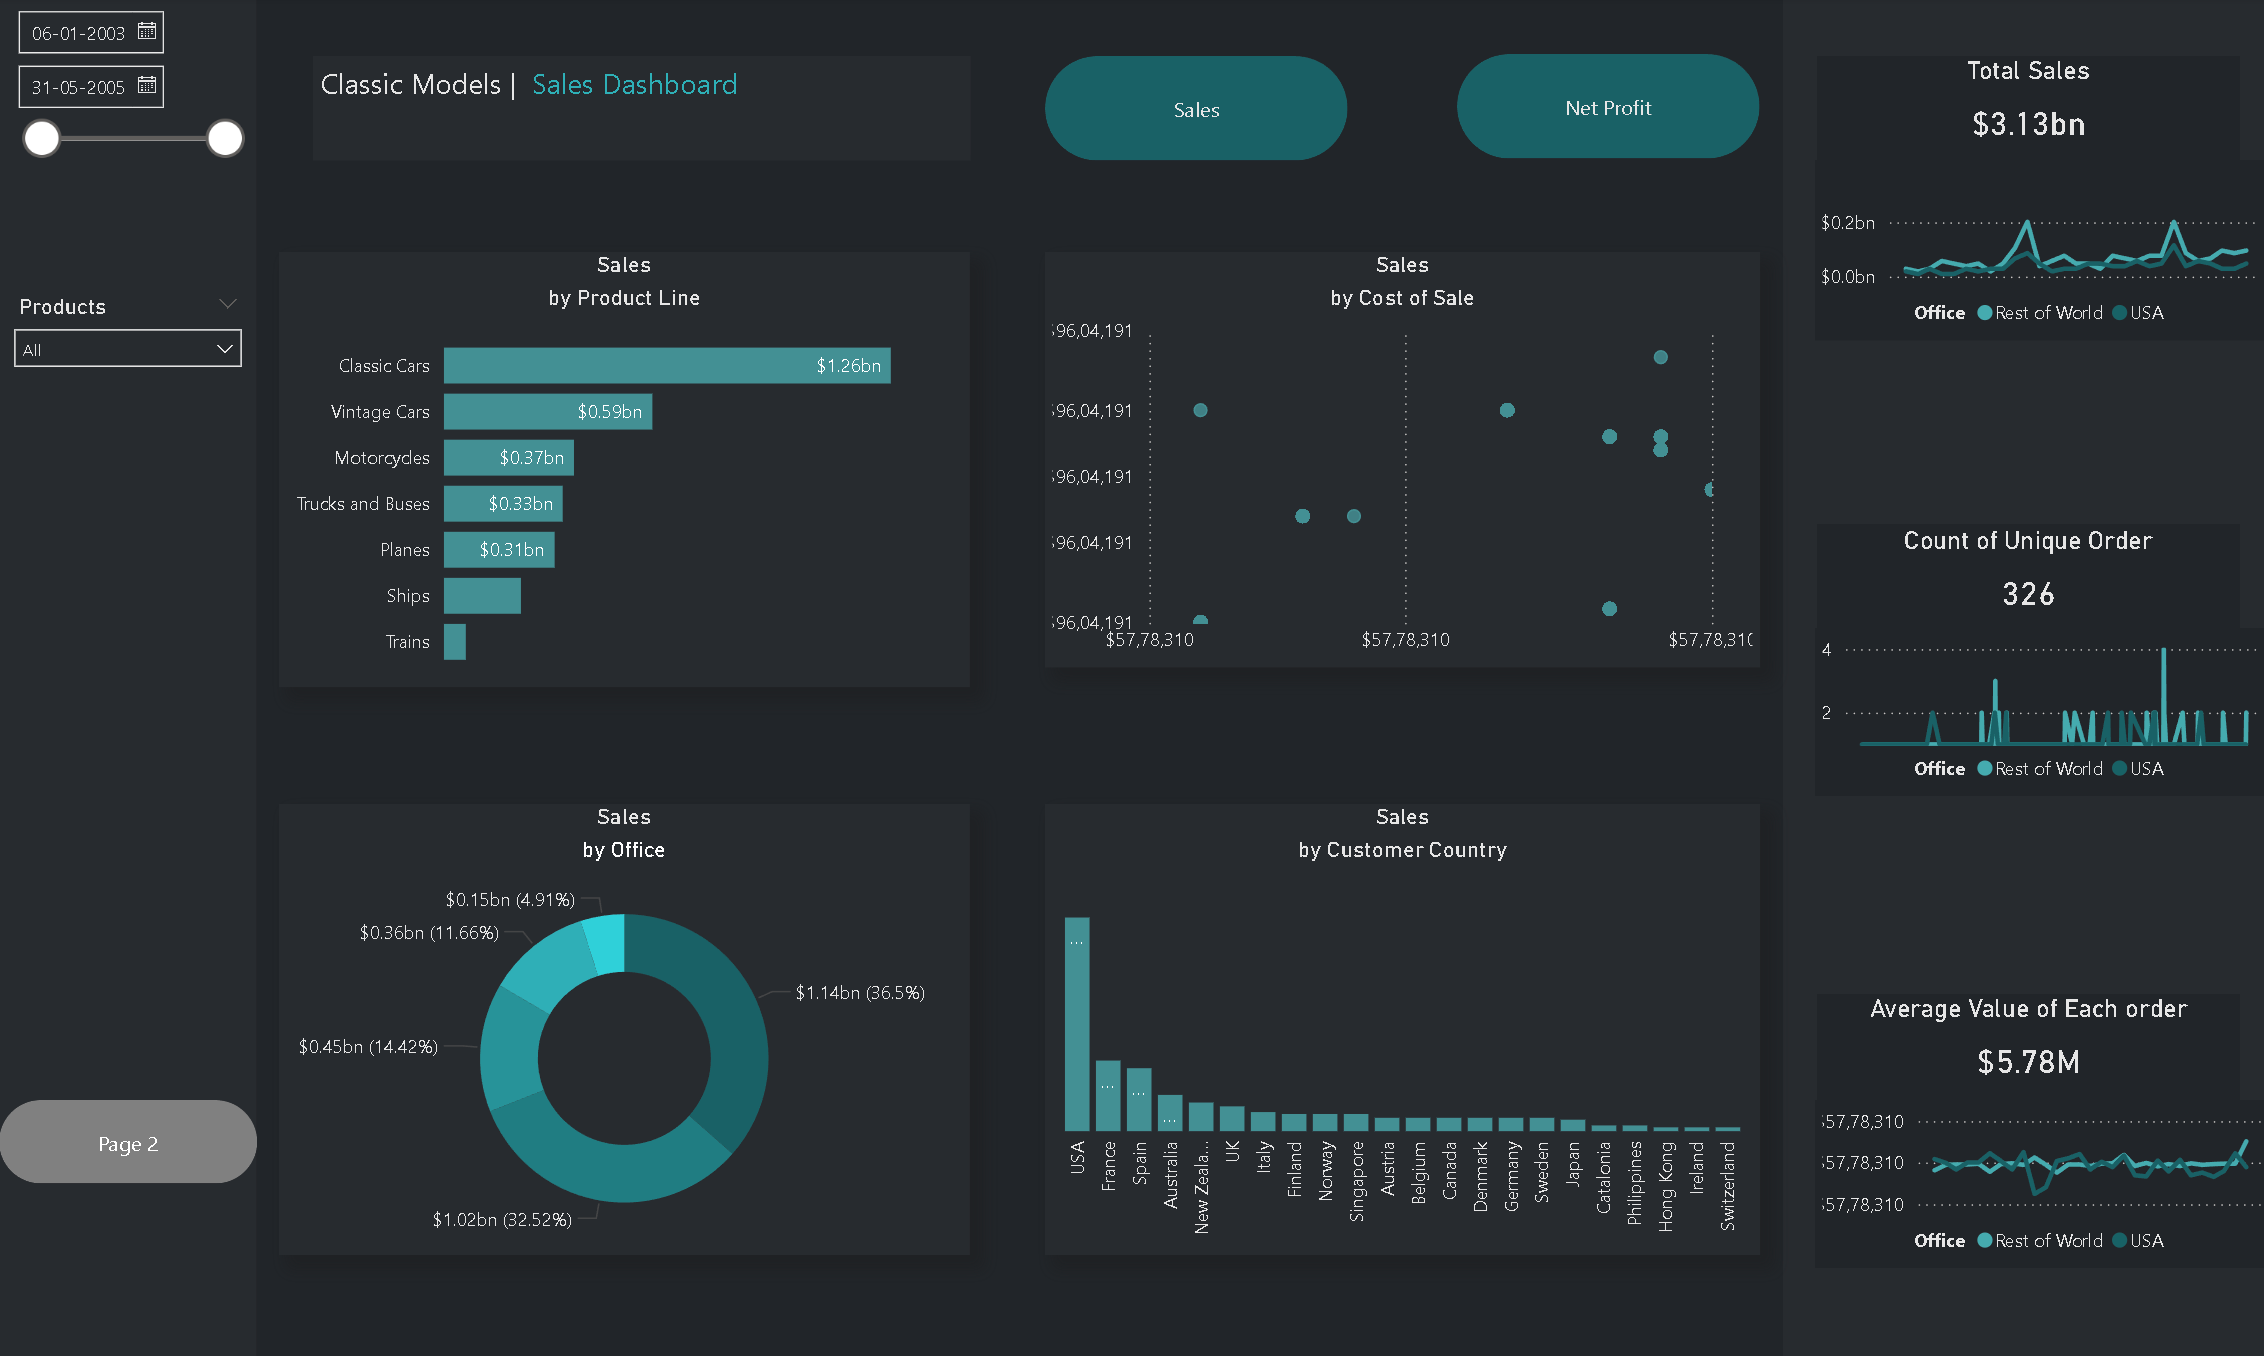

Layout of this report page (visuals, bound fields, positions):
{"tool":"powerbi","page":{"name":"Sales Overview Page 1","canvas":[1500,900],"ordinal":1},"visuals":[{"type":"shape","box":[0,0,170,899.6],"z":0},{"type":"shape","box":[1179.1,0,320.9,899.6],"z":1000},{"type":"shape","box":[1200.8,39.4,279.5,179.1],"z":2000},{"type":"shape","box":[1200.8,659.4,279.5,179.1],"z":3000},{"type":"shape","box":[1200.8,349.4,279.5,179.1],"z":4000},{"type":"card","title":"Total Sales","fields":{"Values":["Sum(classicmodelss sales_data_for_power_bi.sales_value)"]},"box":[1200.8,39.4,279.5,68.9],"z":5000},{"type":"card","title":"Count of Unique Order","fields":{"Values":["Count(classicmodelss sales_data_for_power_bi.orderNumber)"]},"box":[1200.8,350.4,279.5,68.9],"z":6000},{"type":"card","title":"Average Value of Each order","fields":{"Values":["classicmodelss sales_data_for_power_bi.Average Sales Value per Order"]},"box":[1200.8,659.4,279.5,68.9],"z":7000},{"type":"lineChart","fields":{"Y":["Sum(classicmodelss sales_data_for_power_bi.sales_value)"],"Category":["classicmodelss sales_data_for_power_bi.orderDate.Variation.Date Hierarchy.Year","classicmodelss sales_data_for_power_bi.orderDate.Variation.Date Hierarchy.Quarter","classicmodelss sales_data_for_power_bi.orderDate.Variation.Date Hierarchy.Month"],"Series":["classicmodelss sales_data_for_power_bi.Office Country"]},"box":[1200,107.8,300,109.8],"z":8000},{"type":"lineChart","fields":{"Y":["Sum(classicmodelss sales_data_for_power_bi.sales_value)"],"Category":["classicmodelss sales_data_for_power_bi.orderDate.Variation.Date Hierarchy.Year","classicmodelss sales_data_for_power_bi.orderDate.Variation.Date Hierarchy.Quarter","classicmodelss sales_data_for_power_bi.orderDate.Variation.Date Hierarchy.Month"],"Series":["classicmodelss sales_data_for_power_bi.Office Country"]},"box":[1200,117.8,300,109.8],"z":9000},{"type":"lineChart","fields":{"Series":["classicmodelss sales_data_for_power_bi.Office Country"],"Category":["classicmodelss sales_data_for_power_bi.orderDate.Variation.Date Hierarchy.Year","classicmodelss sales_data_for_power_bi.orderDate.Variation.Date Hierarchy.Quarter","classicmodelss sales_data_for_power_bi.orderDate.Variation.Date Hierarchy.Month","classicmodelss sales_data_for_power_bi.orderDate.Variation.Date Hierarchy.Day"],"Y":["Count(classicmodelss sales_data_for_power_bi.orderNumber)"]},"box":[1200,418.2,300,110.9],"z":10000},{"type":"lineChart","fields":{"Category":["classicmodelss sales_data_for_power_bi.orderDate.Variation.Date Hierarchy.Year","classicmodelss sales_data_for_power_bi.orderDate.Variation.Date Hierarchy.Quarter","classicmodelss sales_data_for_power_bi.orderDate.Variation.Date Hierarchy.Month"],"Series":["classicmodelss sales_data_for_power_bi.Office Country"],"Y":["classicmodelss sales_data_for_power_bi.Average Sales Value per Order"]},"box":[1200,729.1,300,110.9],"z":11000},{"type":"actionButton","box":[690.9,40,200,69.1],"z":12000},{"type":"actionButton","box":[963.6,38.2,200,69.1],"z":13000},{"type":"clusteredBarChart","fields":{"Category":["classicmodelss sales_data_for_power_bi.productLine"],"Y":["Table.Selected Metric"]},"box":[185.5,169.1,456.4,287.3],"z":14000},{"type":"donutChart","fields":{"Y":["Table.Selected Metric"],"Category":["classicmodelss sales_data_for_power_bi.office_country"]},"box":[185.5,534.5,456.4,298.2],"z":16000},{"type":"columnChart","fields":{"Y":["Table.Selected Metric"],"Category":["classicmodelss sales_data_for_power_bi.customer_country"]},"box":[690.9,534.5,472.7,298.2],"z":17000},{"type":"scatterChart","fields":{"Y":["Table.Selected Metric"],"X":["Sum(classicmodelss sales_data_for_power_bi.cost_of_sales)"],"Category":["classicmodelss sales_data_for_power_bi.orderNumber"]},"box":[690.9,169.1,472.7,274.5],"z":18000},{"type":"textbox","box":[207.3,40,434.5,69.1],"z":19000},{"type":"actionButton","box":[0,729.3,170.7,55.2],"z":20000},{"type":"slicer","fields":{"Values":["classicmodelss sales_data_for_power_bi.orderDate"]},"box":[0,0,170.7,129.3],"z":21000},{"type":"slicer","fields":{"Values":["classicmodelss sales_data_for_power_bi.productName"]},"box":[0,191.8,170.6,157.6],"z":22000}]}

Visuals, with their boxes in screenshot pixels (x1, y1, x2, y2), scaled from the page's 1500x900 canvas onto the 2264x1356 screenshot:
shape: [0,0,257,1355]
shape: [1780,0,2263,1355]
shape: [1812,59,2234,329]
shape: [1812,993,2234,1263]
shape: [1812,526,2234,796]
"Total Sales" card: [1812,59,2234,163]
"Count of Unique Order" card: [1812,528,2234,632]
"Average Value of Each order" card: [1812,993,2234,1097]
lineChart - Sum(classicmodelss sales_data_for_power_bi.sales_value) x classicmodelss sales_data_for_power_bi.orderDate.Variation.Date Hierarchy.Year: [1811,162,2263,328]
lineChart - Sum(classicmodelss sales_data_for_power_bi.sales_value) x classicmodelss sales_data_for_power_bi.orderDate.Variation.Date Hierarchy.Year: [1811,177,2263,343]
lineChart - classicmodelss sales_data_for_power_bi.Office Country x classicmodelss sales_data_for_power_bi.orderDate.Variation.Date Hierarchy.Year: [1811,630,2263,797]
lineChart - classicmodelss sales_data_for_power_bi.orderDate.Variation.Date Hierarchy.Year x classicmodelss sales_data_for_power_bi.orderDate.Variation.Date Hierarchy.Quarter: [1811,1099,2263,1266]
actionButton: [1043,60,1345,164]
actionButton: [1454,58,1756,162]
clusteredBarChart - classicmodelss sales_data_for_power_bi.productLine x Table.Selected Metric: [280,255,969,688]
donutChart - Table.Selected Metric x classicmodelss sales_data_for_power_bi.office_country: [280,805,969,1255]
columnChart - Table.Selected Metric x classicmodelss sales_data_for_power_bi.customer_country: [1043,805,1756,1255]
scatterChart - Table.Selected Metric x Sum(classicmodelss sales_data_for_power_bi.cost_of_sales): [1043,255,1756,668]
textbox: [313,60,969,164]
actionButton: [0,1099,258,1182]
slicer - classicmodelss sales_data_for_power_bi.orderDate: [0,0,258,195]
slicer - classicmodelss sales_data_for_power_bi.productName: [0,289,257,526]
